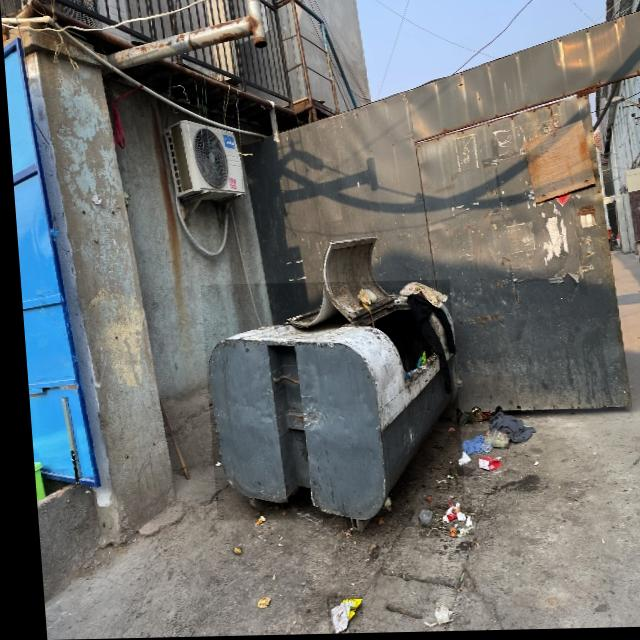garbage: (439, 410, 531, 475), (408, 496, 466, 540), (317, 596, 354, 634)
overflow: (196, 282, 458, 522)
